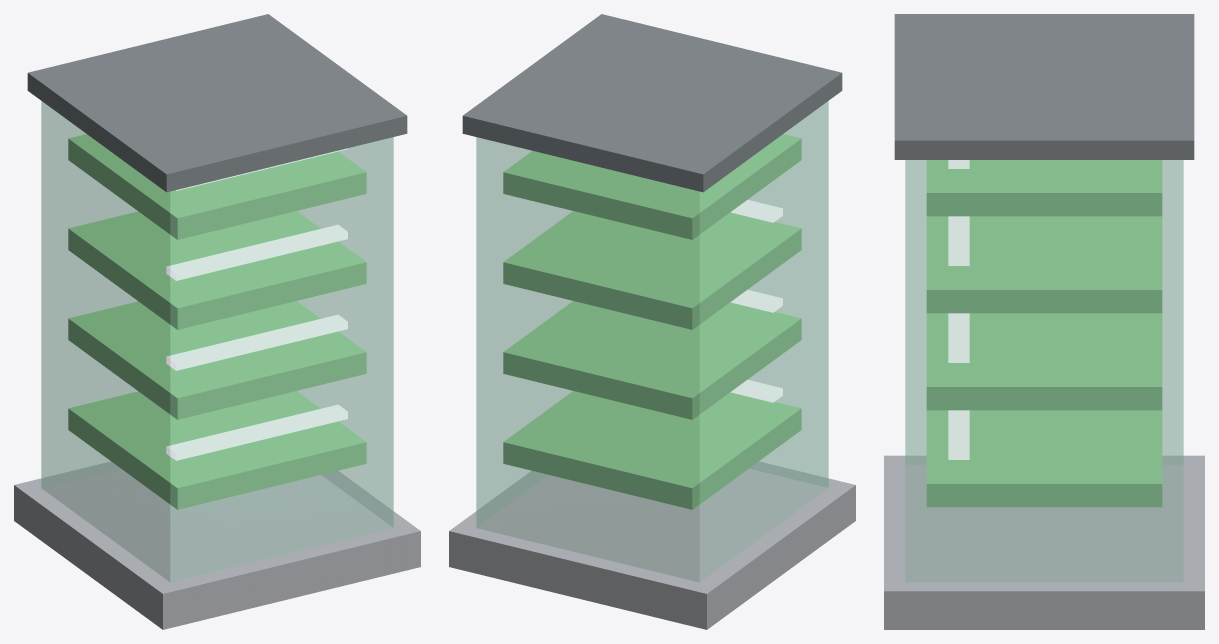
File: vfarm.glb
The picture shows the model from 3 angles, left to right: view 1: azimuth 30°, elevation 25°; view 2: azimuth 150°, elevation 25°; view 3: azimuth 270°, elevation 25°; orthographic projection. The views are drawn at different scales.
Visible parts, largest first — view 1: box.002, box.001, box, box.003, box.005, box.007, box.009, box.004, box.006, box.008; view 2: box.002, box.001, box, box.003, box.005, box.007, box.009, box.008, box.004, box.006; view 3: box.002, box, box.001, box.003, box.005, box.007, box.009, box.004, box.006, box.008.
Part boxes in pixels (<box>): box.002: <box>41,101,393,581</box>; box.001: <box>14,461,420,629</box>; box: <box>27,14,407,192</box>; box.003: <box>68,391,366,509</box>; box.005: <box>68,301,366,419</box>; box.007: <box>68,211,366,329</box>; box.009: <box>68,134,366,239</box>; box.004: <box>166,404,347,460</box>; box.006: <box>166,315,347,370</box>; box.008: <box>166,225,347,280</box>; box.002: <box>476,101,828,581</box>; box.001: <box>449,461,855,629</box>; box: <box>462,14,842,192</box>; box.003: <box>503,391,801,509</box>; box.005: <box>503,301,801,419</box>; box.007: <box>503,211,801,329</box>; box.009: <box>503,134,801,239</box>; box.008: <box>731,200,782,222</box>; box.004: <box>730,380,782,402</box>; box.006: <box>730,290,782,312</box>; box.002: <box>905,160,1183,581</box>; box: <box>894,14,1194,159</box>; box.001: <box>884,455,1204,629</box>; box.003: <box>926,410,1162,507</box>; box.005: <box>926,313,1162,410</box>; box.007: <box>926,216,1162,313</box>; box.009: <box>926,160,1162,216</box>; box.004: <box>948,410,969,459</box>; box.006: <box>948,313,969,362</box>; box.008: <box>948,216,969,265</box>.
Bounding box in the file's own units: 1.5 × 2.5 × 1.5.
